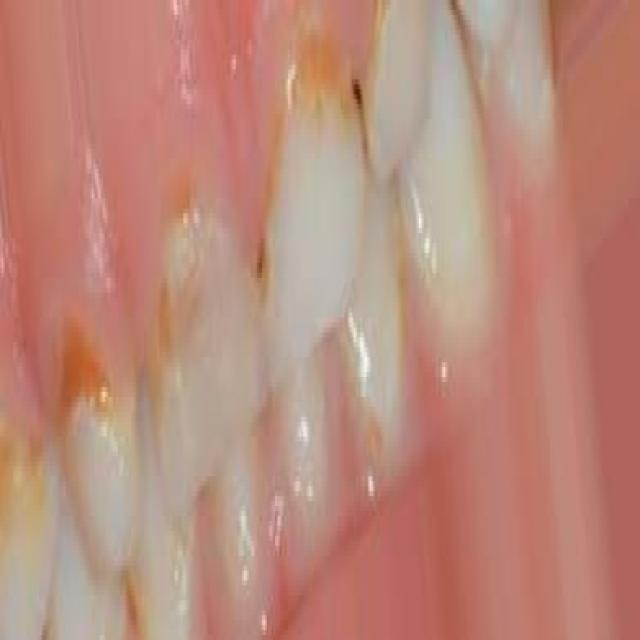caries: (144, 168, 234, 409), (270, 0, 372, 184), (54, 298, 126, 502), (0, 372, 54, 561)
